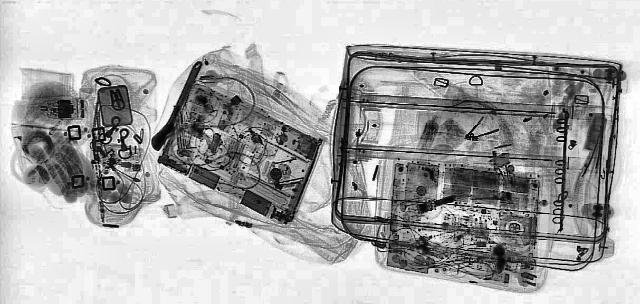Wrench: (145, 60, 207, 152)
